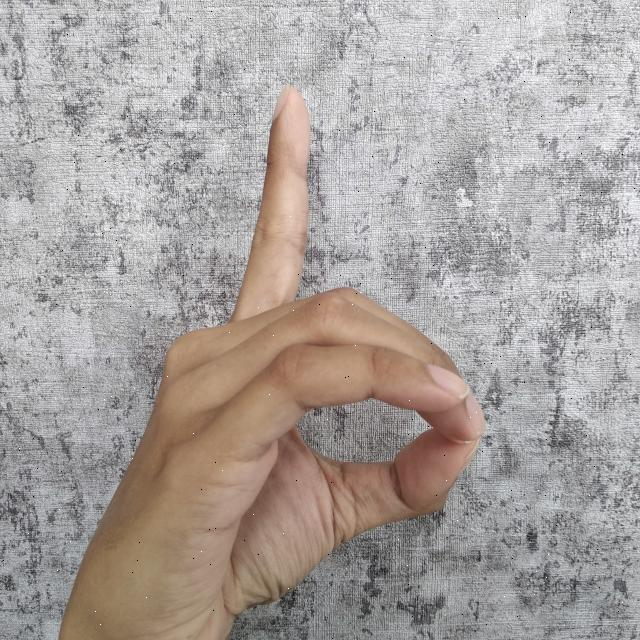D: (61, 86, 485, 640)
